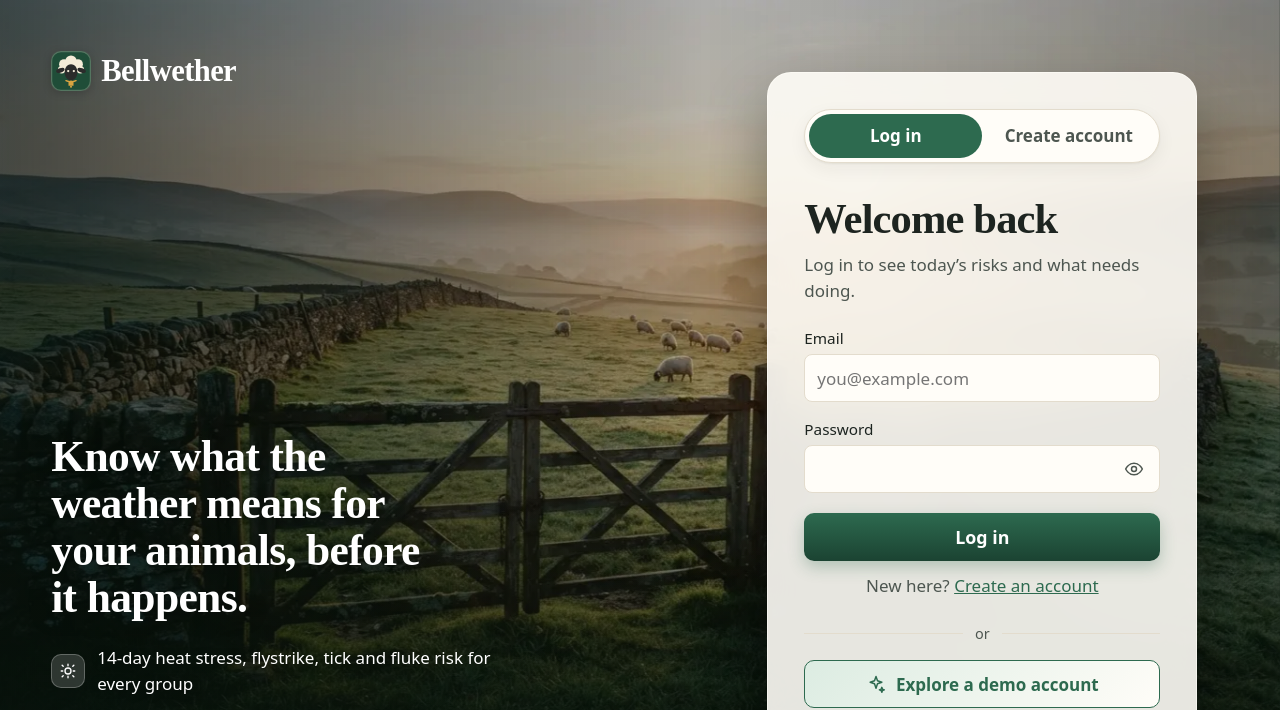
Test: AuthPage (FR-8.1) › switches between log in and sign up with tabs
Click the link "Create account": (1069,136) [1005,124,1133,147]
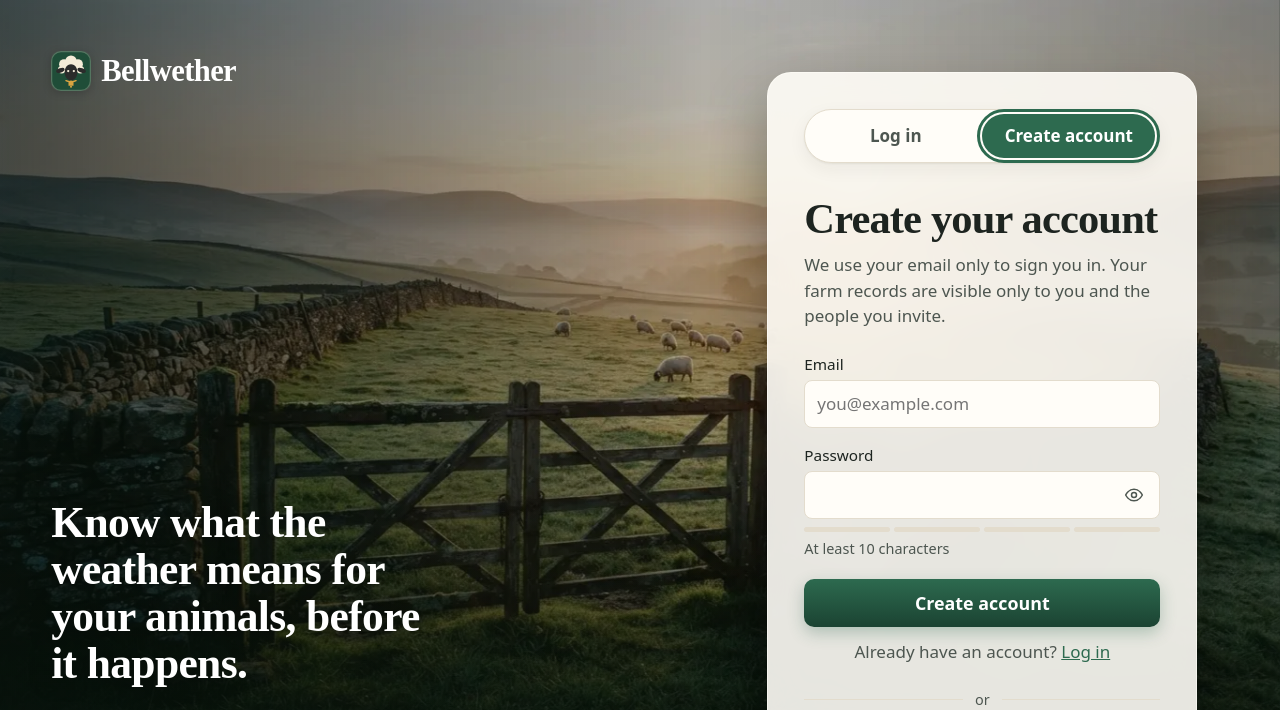
expect the button "Create account" is shown: met, box [804,579,1160,627]
